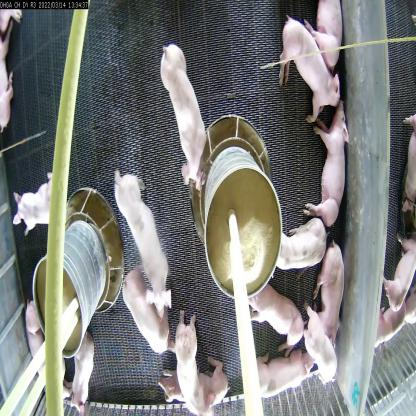Pig: (112, 166, 169, 320), (272, 20, 341, 122), (160, 47, 208, 179), (309, 106, 352, 234), (25, 299, 77, 402), (117, 268, 176, 354), (241, 264, 302, 341), (154, 358, 230, 412), (175, 304, 210, 415), (5, 173, 61, 237), (304, 2, 350, 75), (249, 348, 314, 398), (267, 219, 324, 276), (296, 301, 335, 383), (62, 334, 101, 415), (314, 248, 347, 338)
